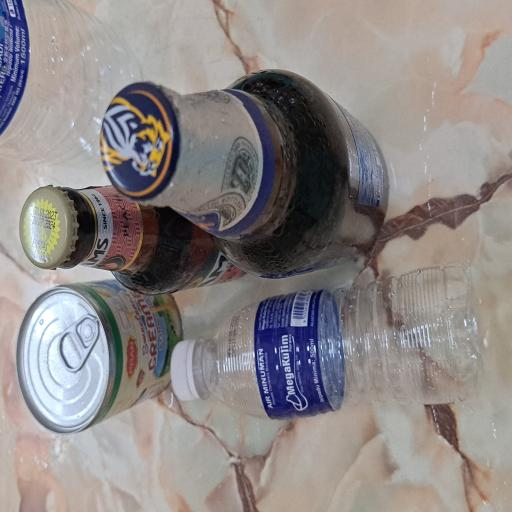can: (59, 21, 175, 242)
glass bottle: (179, 130, 332, 512), (166, 21, 246, 321)
plastic bottle: (71, 227, 183, 512), (266, 0, 384, 170)
plastic bottle cap: (81, 226, 131, 273)
pop tab: (104, 79, 150, 133)
